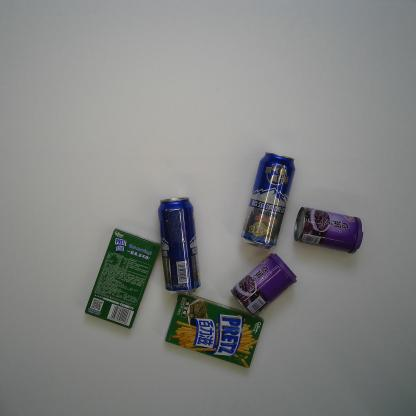Alcohol: (240, 151, 296, 251), (157, 196, 201, 296)
Canned Food: (231, 253, 297, 319), (293, 206, 364, 256)
Dessert: (84, 227, 161, 329), (164, 293, 264, 369)
